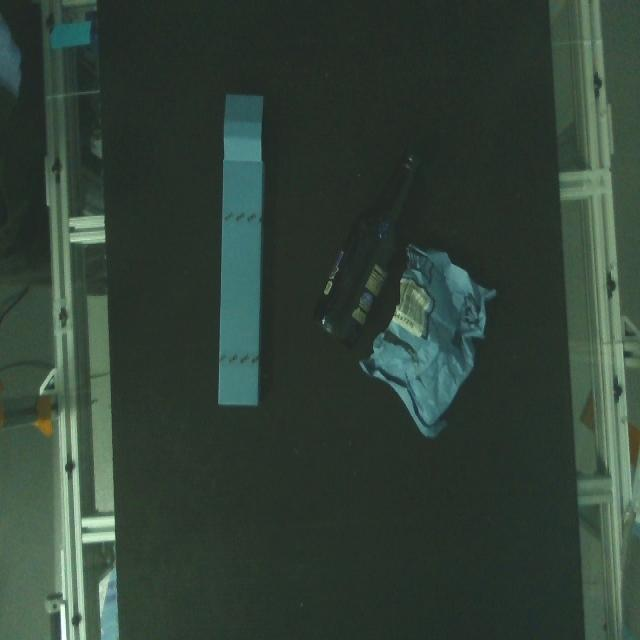non-paper: (311, 148, 426, 356)
paper: (354, 231, 510, 442), (200, 95, 280, 397)
